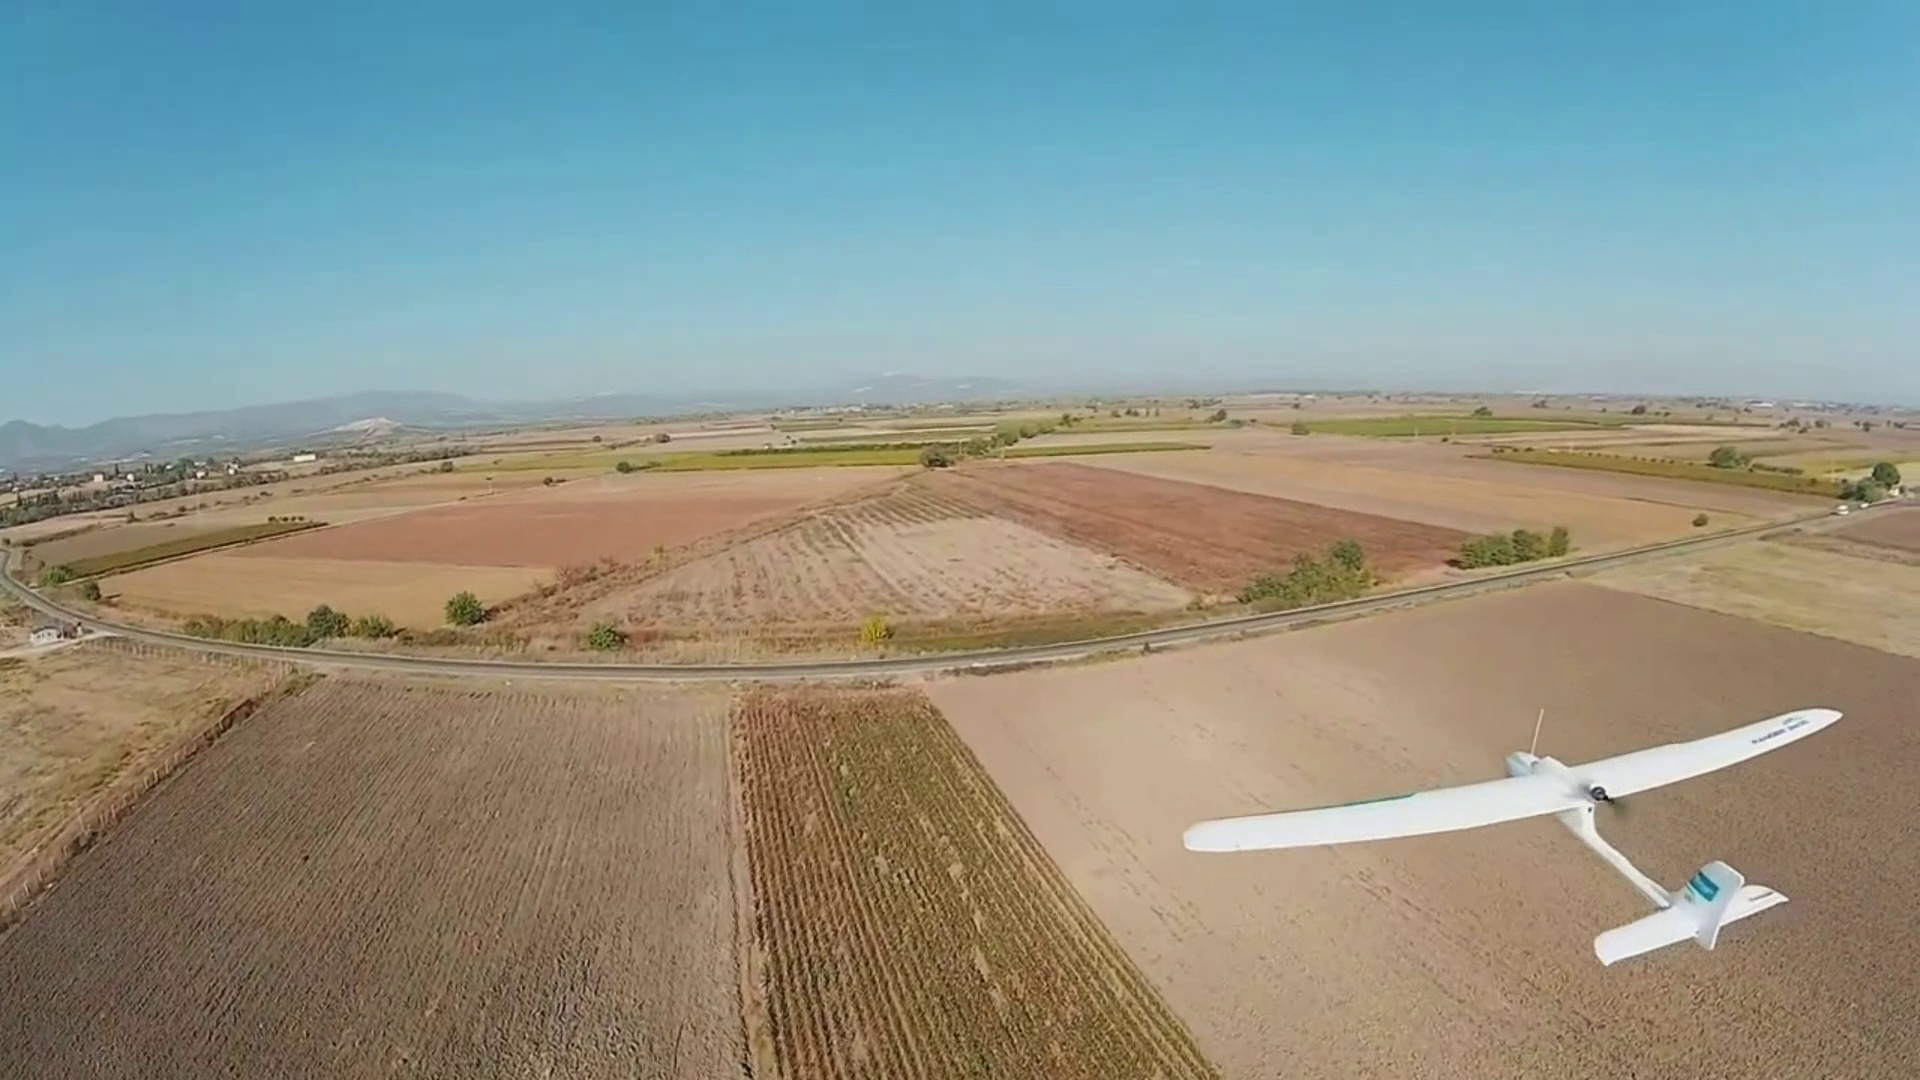airplane: (1184, 705, 1842, 967)
